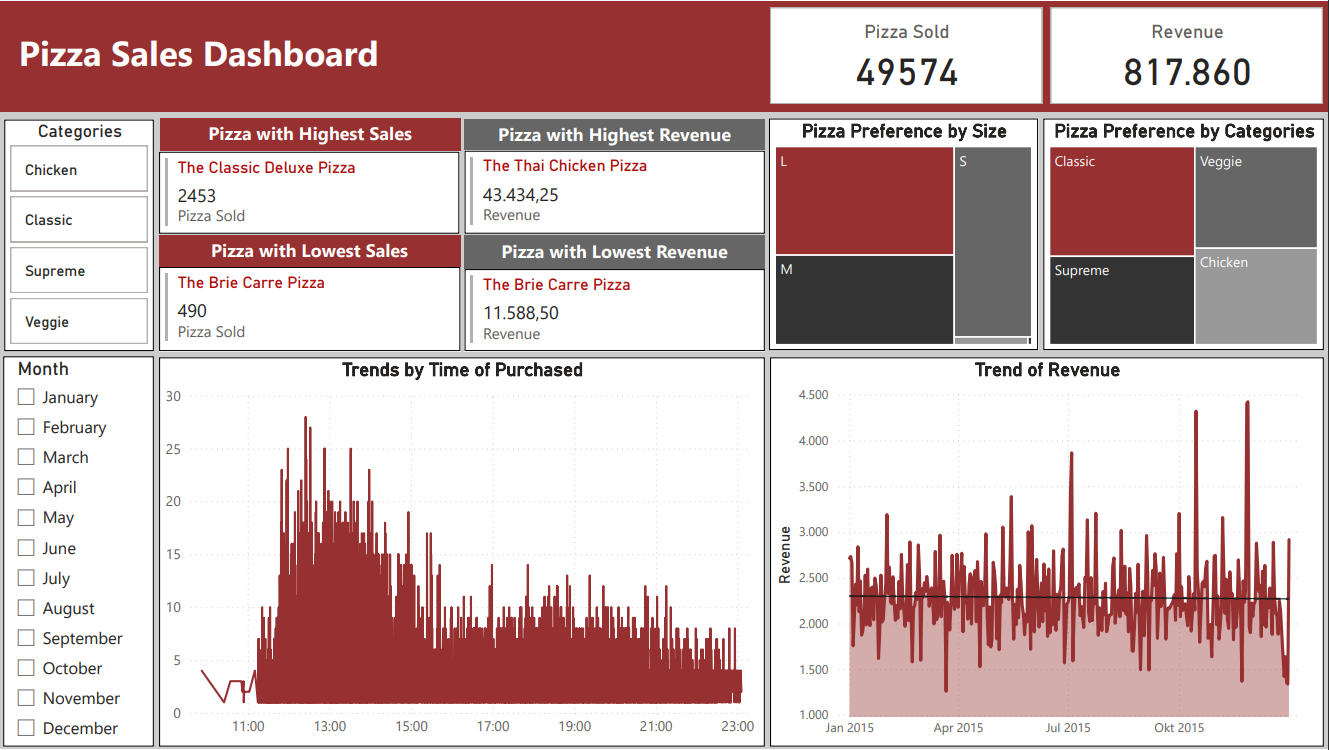

Layout of this report page (visuals, bound fields, positions):
{"tool":"powerbi","page":{"name":"Pizza Sales Dashboard","canvas":[1280,720],"ordinal":1},"visuals":[{"type":"shape","box":[0,0,1280,106.7],"z":0},{"type":"treemap","title":"Pizza Preference by Categories","fields":{"Group":["pizza_sales.pizza_category"],"Values":["Sum(pizza_sales.quantity)"]},"box":[1005.6,113.3,270,223.3],"z":1000},{"type":"treemap","title":"Pizza Preference by Size","fields":{"Group":["pizza_sales.pizza_size"],"Values":["Sum(pizza_sales.quantity)"]},"box":[742.2,113.3,258.9,223.3],"z":2000},{"type":"cardVisual","fields":{"Data":["Sum(pizza_sales.quantity)","Sum(pizza_sales.total_price)"]},"box":[737.5,1.2,542.5,103.8],"z":3000},{"type":"advancedSlicerVisual","fields":{"Values":["pizza_sales.pizza_category"]},"box":[5.6,114.4,144.4,223.3],"z":4000},{"type":"shape","box":[155.8,112.5,289.2,31.7],"z":5000},{"type":"lineChart","title":"Trends by Time of Purchased","fields":{"Category":["pizza_sales.order_time"],"Y":["Sum(pizza_sales.quantity)"]},"box":[155,342.5,582.5,375],"z":6000},{"type":"slicer","fields":{"Values":["pizza_sales.order_date.Variation.Date Hierarchy.Month"]},"box":[5.6,342.2,144.4,375.6],"z":7000},{"type":"multiRowCard","fields":{"Values":["Sum(pizza_sales.quantity)","pizza_sales.pizza_name"]},"box":[155.5,144.5,289.1,79.1],"z":8000},{"type":"shape","box":[155.5,225.5,290,32.7],"z":9000},{"type":"multiRowCard","fields":{"Values":["Sum(pizza_sales.quantity)","pizza_sales.pizza_name"]},"box":[155.5,256.4,290,80.9],"z":10000},{"type":"shape","box":[449.1,113.6,289.1,31.8],"z":11000},{"type":"multiRowCard","fields":{"Values":["Sum(pizza_sales.total_price)","pizza_sales.pizza_name"]},"box":[448.6,144.3,288.6,80],"z":12000},{"type":"shape","box":[449.1,226.4,289.1,31.8],"z":13000},{"type":"multiRowCard","fields":{"Values":["pizza_sales.pizza_name","Sum(pizza_sales.total_price)"]},"box":[449.1,258.2,289.1,79.1],"z":14000},{"type":"lineStackedColumnComboChart","title":"Revenue and Pizza Sold by Month","fields":{"Y":["Sum(pizza_sales.total_price)"],"Y2":["Sum(pizza_sales.quantity)"],"Category":["pizza_sales.order_date.Variation.Date Hierarchy.Month"]},"box":[743.3,343.3,531.7,373.3],"z":16000}]}

Visuals, with their boxes in screenshot pixels (x1, y1, x2, y2), scaled from the page's 1280x720 canvas onto the 1329x750 screenshot:
shape: (x1=0, y1=0, x2=1328, y2=111)
"Pizza Preference by Categories" treemap: (x1=1044, y1=118, x2=1324, y2=351)
"Pizza Preference by Size" treemap: (x1=771, y1=118, x2=1039, y2=351)
cardVisual - Sum(pizza_sales.quantity) x Sum(pizza_sales.total_price): (x1=766, y1=1, x2=1328, y2=109)
advancedSlicerVisual - pizza_sales.pizza_category: (x1=6, y1=119, x2=156, y2=352)
shape: (x1=162, y1=117, x2=462, y2=150)
"Trends by Time of Purchased" lineChart: (x1=161, y1=357, x2=766, y2=747)
slicer - pizza_sales.order_date.Variation.Date Hierarchy.Month: (x1=6, y1=356, x2=156, y2=748)
multiRowCard - Sum(pizza_sales.quantity) x pizza_sales.pizza_name: (x1=161, y1=151, x2=462, y2=233)
shape: (x1=161, y1=235, x2=463, y2=269)
multiRowCard - Sum(pizza_sales.quantity) x pizza_sales.pizza_name: (x1=161, y1=267, x2=463, y2=351)
shape: (x1=466, y1=118, x2=766, y2=151)
multiRowCard - Sum(pizza_sales.total_price) x pizza_sales.pizza_name: (x1=466, y1=150, x2=765, y2=234)
shape: (x1=466, y1=236, x2=766, y2=269)
multiRowCard - pizza_sales.pizza_name x Sum(pizza_sales.total_price): (x1=466, y1=269, x2=766, y2=351)
"Revenue and Pizza Sold by Month" lineStackedColumnComboChart: (x1=772, y1=358, x2=1324, y2=746)
